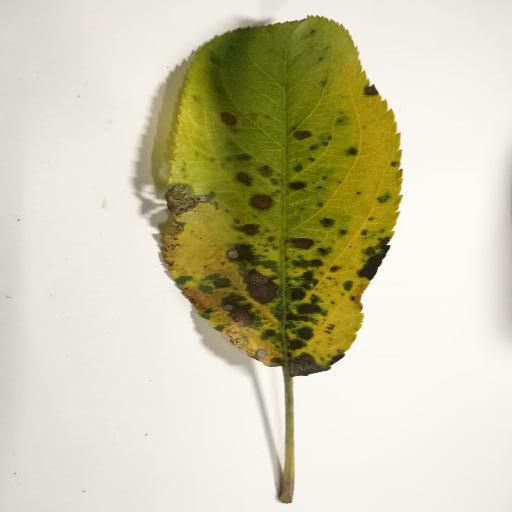Brown_Spot: (139, 175, 420, 376), (291, 123, 323, 151), (349, 77, 385, 99), (218, 111, 243, 131)
